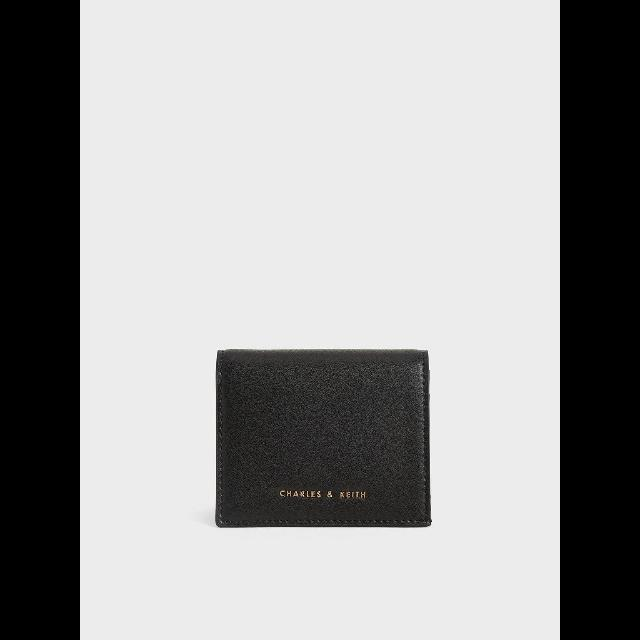wallet: (212, 344, 433, 530)
